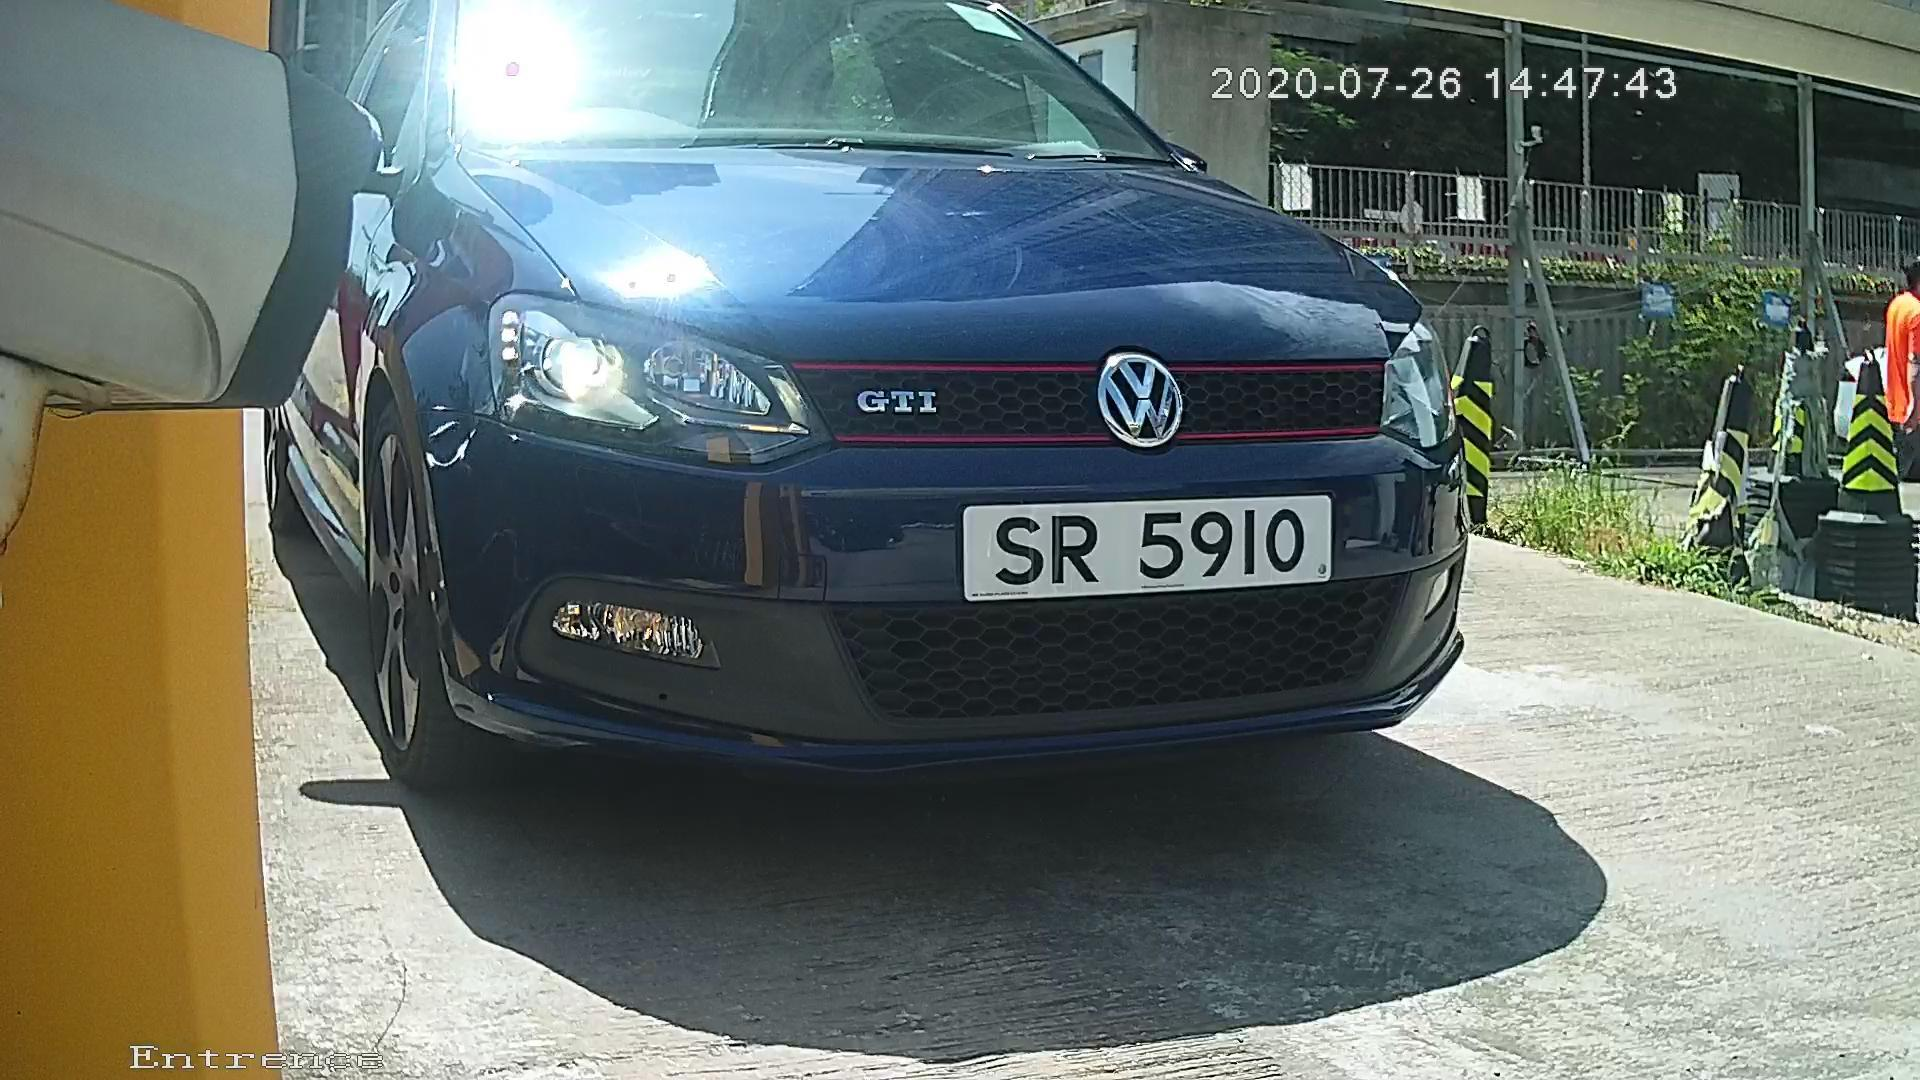privatecar: (291, 25, 1476, 878)
